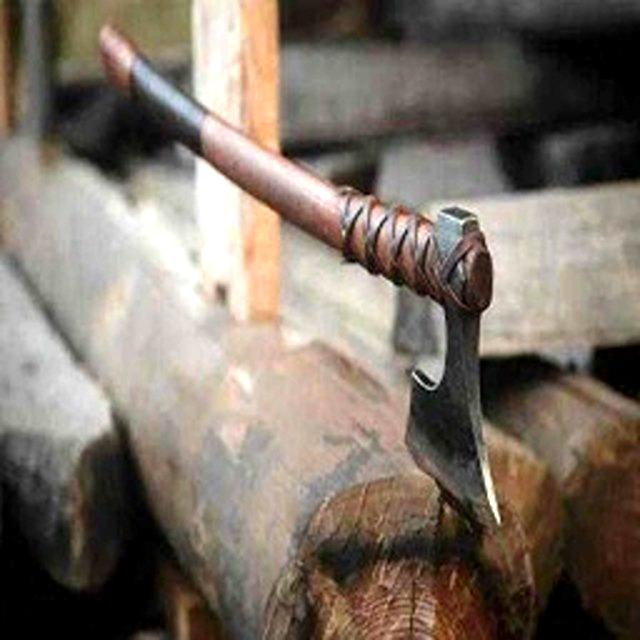ax: (87, 19, 516, 538)
